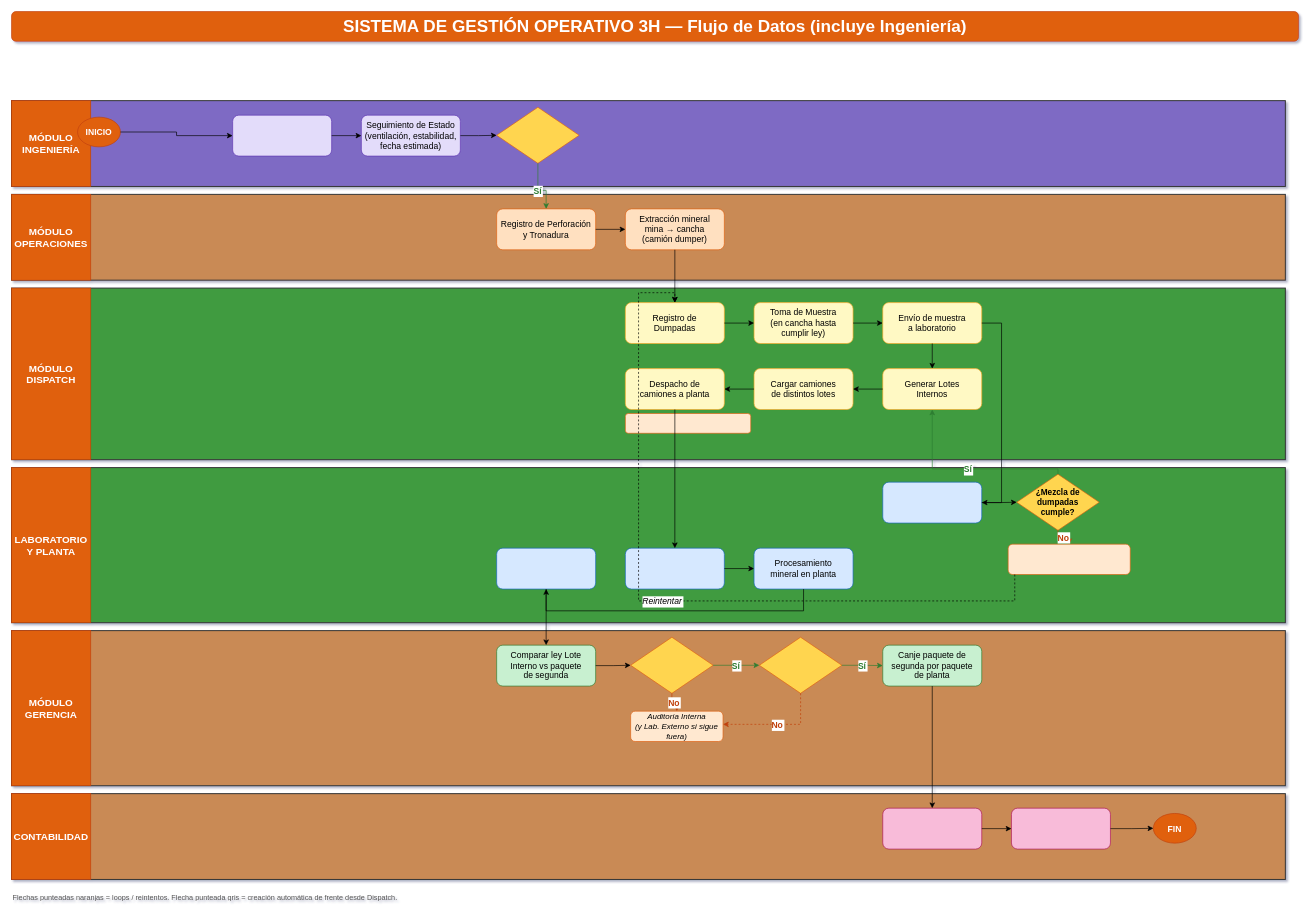
The diagram is 1315 pixels wide and 919 high, and some of its shapes have lost their labels. The box of each missing label's shape, as (x1, y1, x2, y2) in pixels:
Análisis de muestras y paquetes de segunda Entrega de resultados: (882, 481, 982, 523)
Crear/Definir Frente de Trabajo (túnel/manto/calle/tipo): (232, 115, 332, 156)
Depósito + factura (Contabilidad registra el pago): (1011, 808, 1110, 849)
Ingresan camiones a planta procesadora: (625, 547, 724, 589)
Muestra representativa (paquete de segunda): (496, 547, 596, 589)
Objetivo: 1.3% Cu Insoluble Mezcla = 100 t · Error muestra 19%: (1007, 544, 1130, 575)
Planta emite liquidación de pago: (882, 808, 982, 849)
¿Dentro de ±10%?: (630, 637, 713, 693)
¿Dentro del 0.10% aceptable?: (759, 637, 842, 693)
¿Frente listo para operar?: (496, 107, 579, 163)
↑ el frente también se autogenera acá si no existe en el catálogo: (625, 413, 751, 433)
